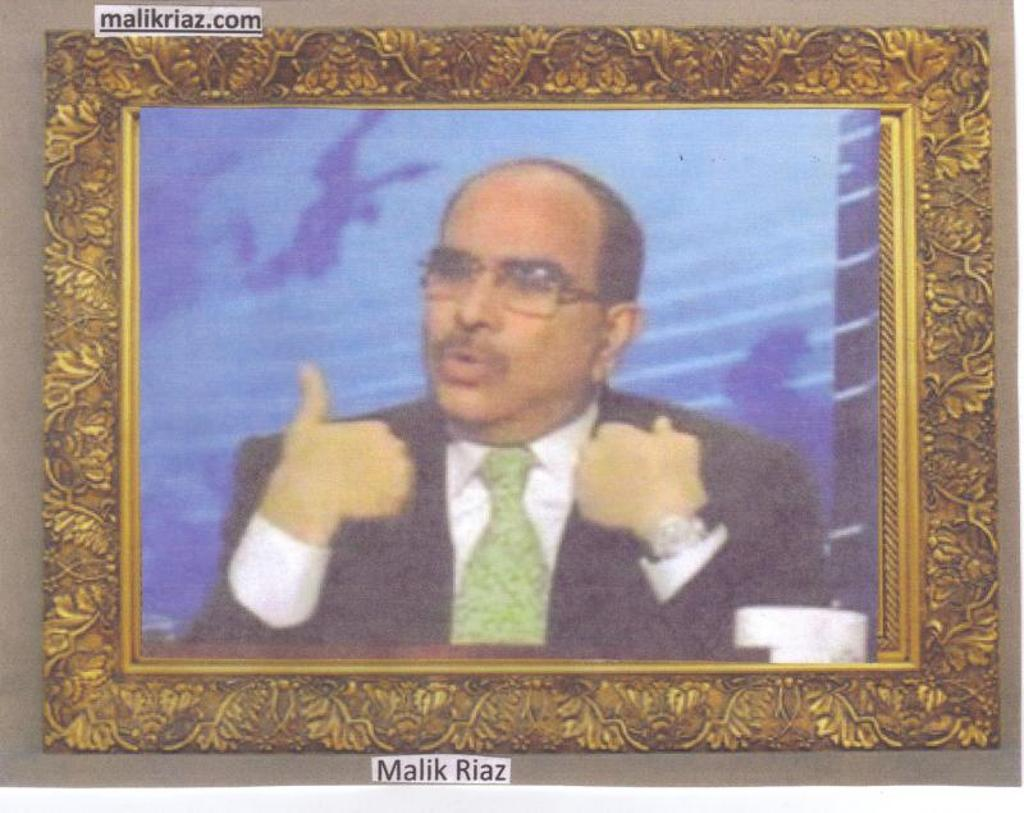face: (422, 174, 584, 420)
